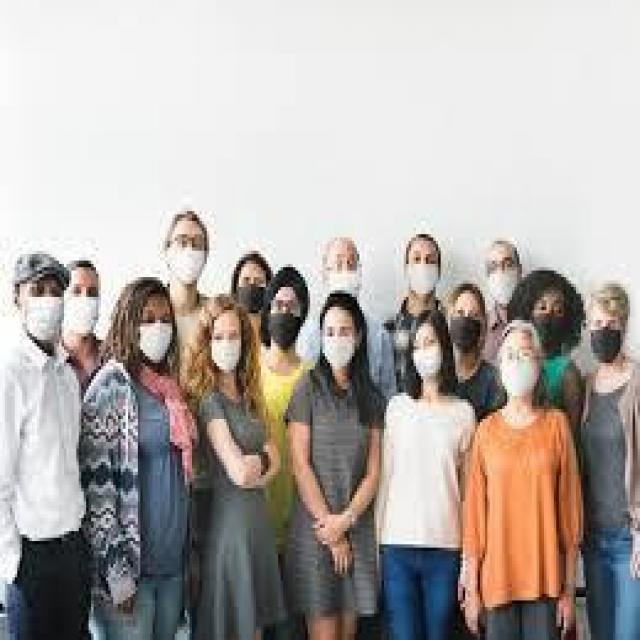person: (175, 287, 300, 637), (91, 277, 202, 634), (485, 310, 593, 637), (0, 231, 86, 637), (372, 297, 468, 637), (298, 280, 389, 637), (256, 261, 330, 634), (140, 194, 200, 636), (303, 224, 401, 485), (379, 211, 448, 544), (576, 267, 638, 584), (492, 251, 574, 485), (438, 267, 510, 472), (52, 251, 98, 468), (222, 228, 283, 389), (475, 228, 522, 386)
